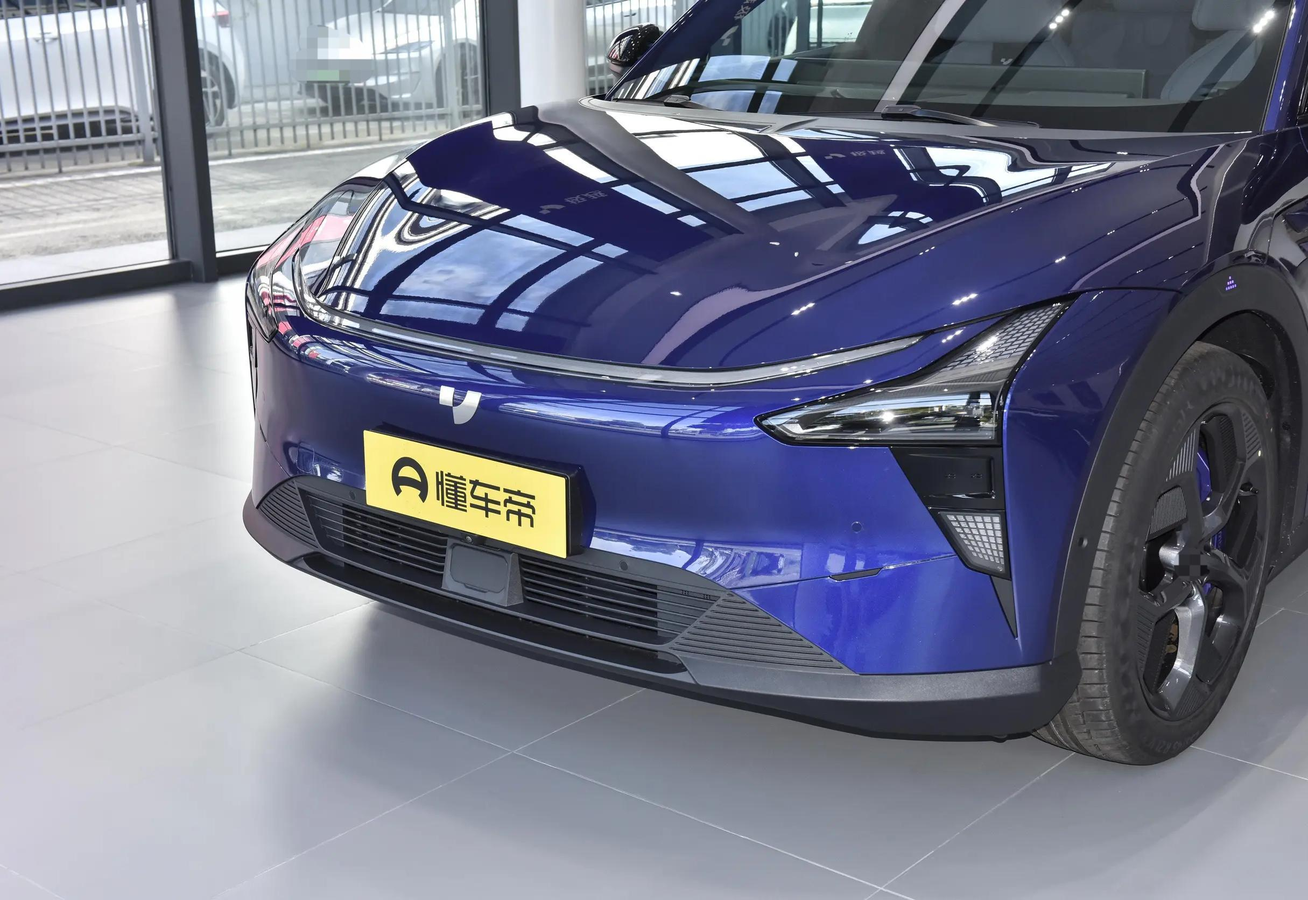JIYUE: (438, 383, 482, 425)
